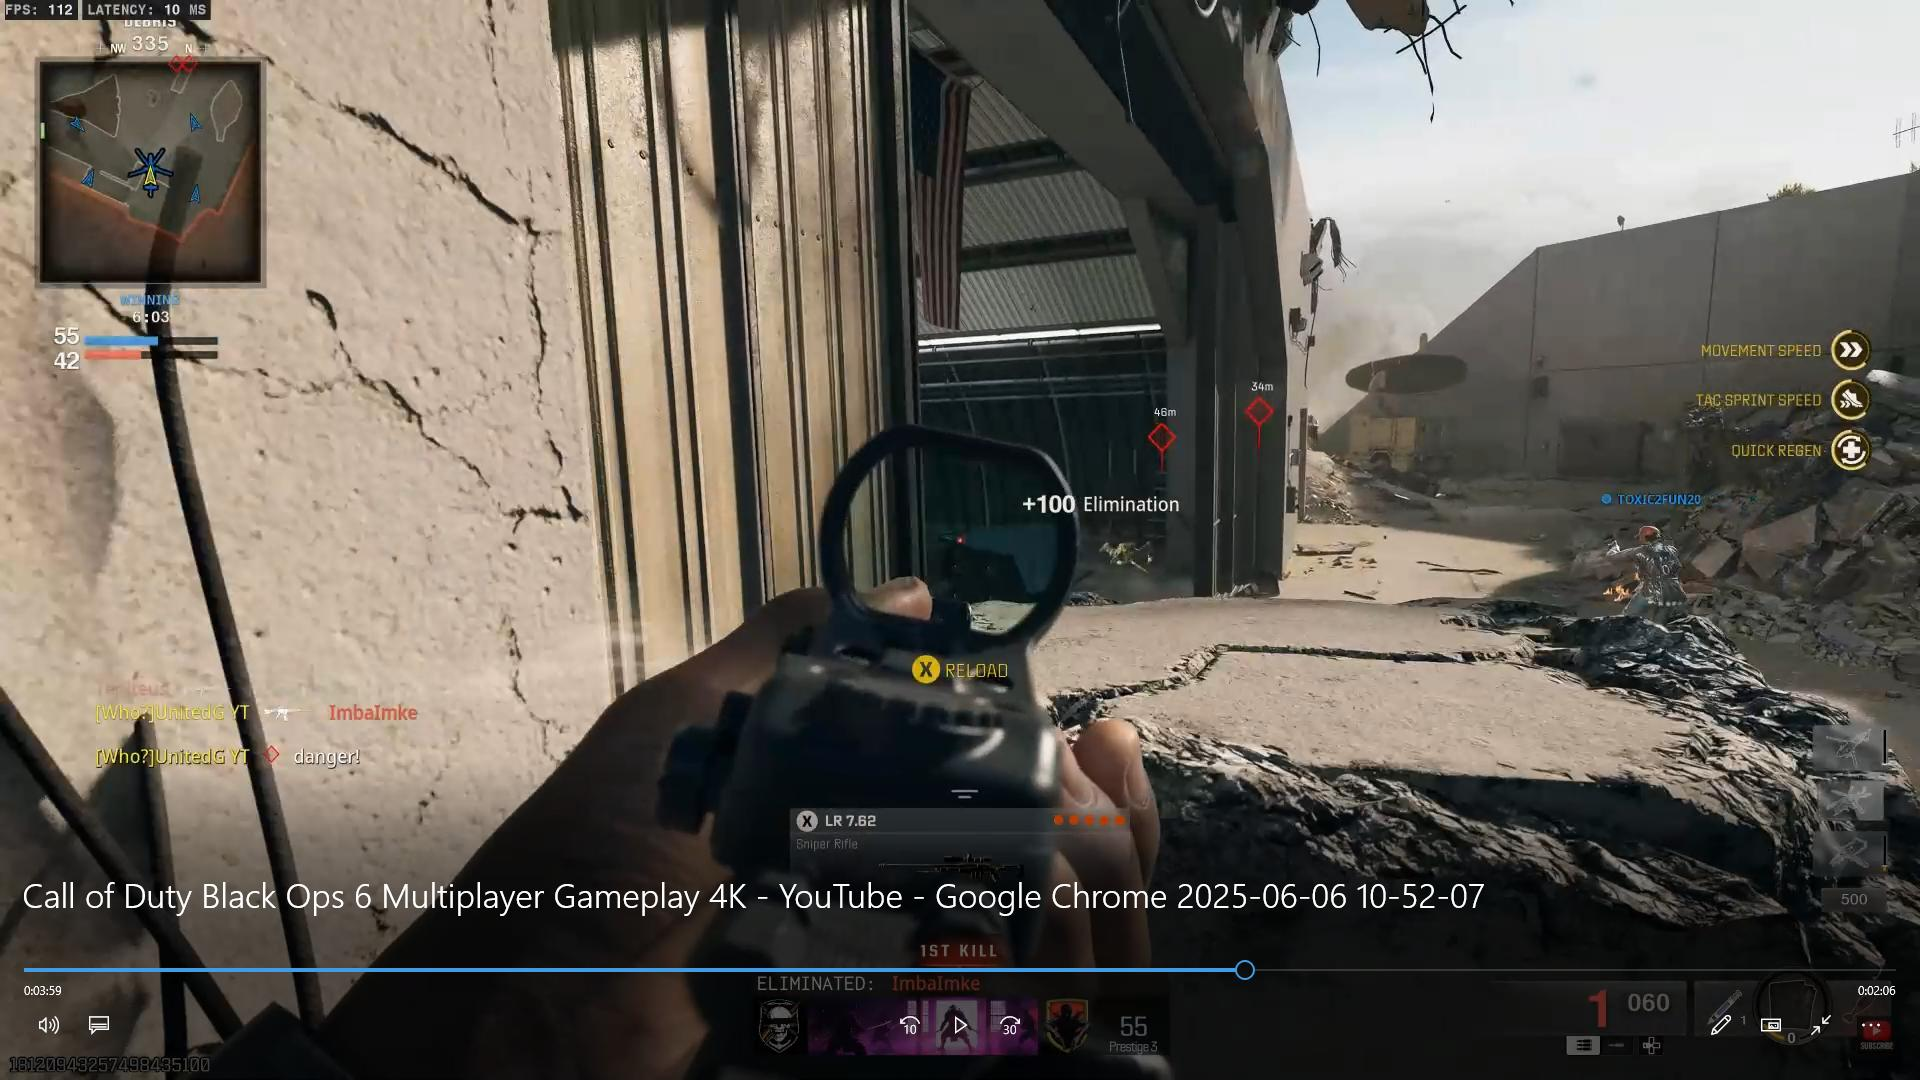Enemy: (1596, 513, 1717, 636)
